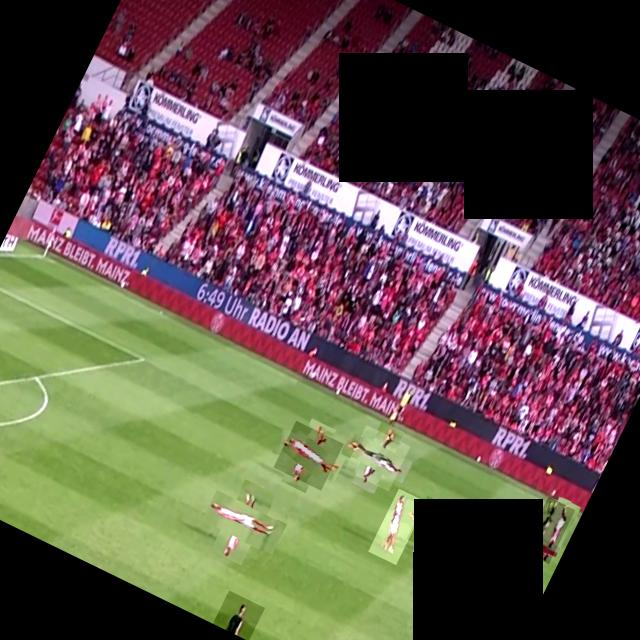soccer-player: (205, 484, 281, 560), (273, 420, 343, 490), (367, 488, 426, 565), (344, 425, 410, 491), (406, 496, 469, 560), (462, 518, 516, 592), (522, 496, 574, 564), (534, 496, 580, 557), (490, 511, 535, 572), (212, 590, 264, 640)
